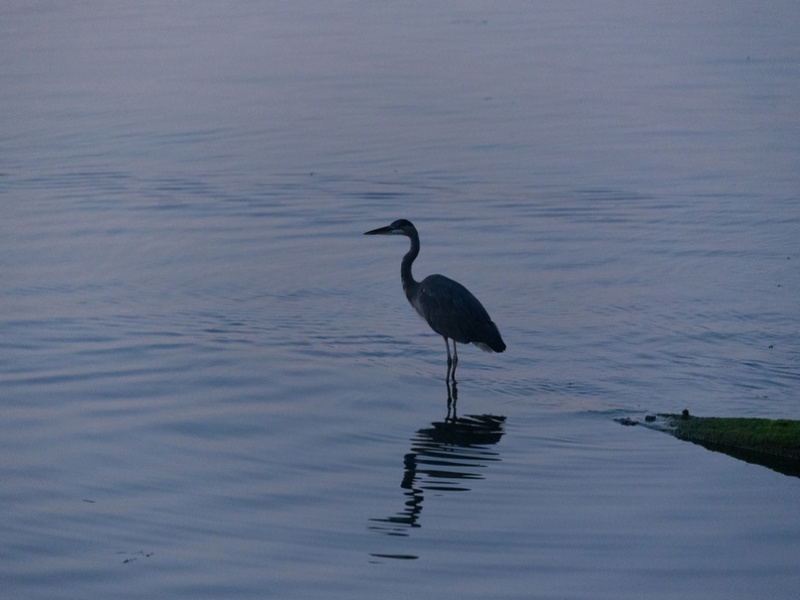heron: (363, 216, 508, 422)
